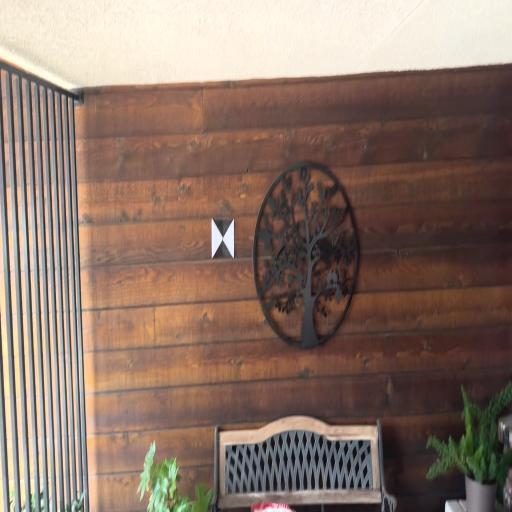target: (212, 218, 234, 257)
